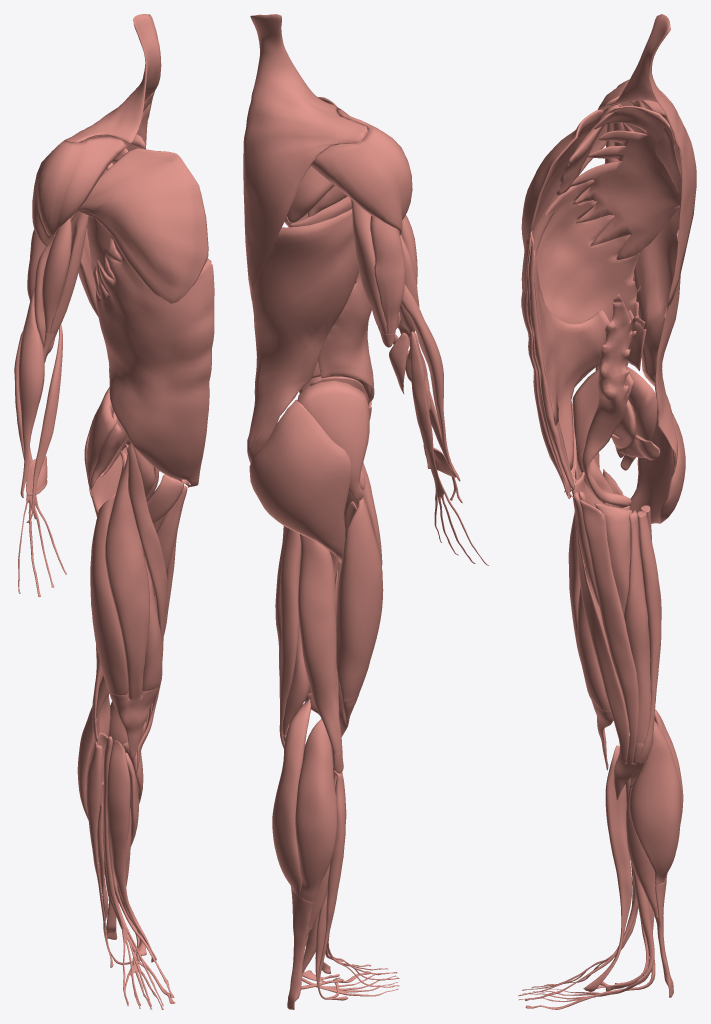
File: muscles.glb
The picture shows the model from 3 angles, left to right: view 1: azimuth 30°, elevation 25°; view 2: azimuth 150°, elevation 25°; view 3: azimuth 270°, elevation 25°; orthographic projection. The views are drawn at different scales.
Parts seen in each view (by area): view 1: External abdominal oblique muscle.r, Pectoralis major.r, Rectus femoris.r, Deltoid muscle.r, Vastus lateralis muscle.r, Trapezius muscle.r, Tibialis anterior muscle.r, Sartorius muscle.r, Brachioradialis muscle.r, Long head of biceps brachii.r, Fibularis longus muscle.r, Serratus anterior muscle.r (+24 smaller); view 2: Latissimus dorsi.r, Trapezius muscle.r, Gluteus maximus muscle.r, Vastus lateralis muscle.r, Deltoid muscle.r, Long head of biceps femoris.r, Lateral head of gastrocnemius.r, Gluteus medius muscle.r, Medial head of gastrocnemius.r, External abdominal oblique muscle.r, Semitendinosus muscle.r, Lateral head of triceps brachii.r (+14 smaller); view 3: External abdominal oblique muscle.r, Serratus anterior muscle.r, Internal abdominal oblique muscle.r, Latissimus dorsi.r, Medial head of gastrocnemius.r, Psoas major.r, Gracilis muscle.r, Trapezius muscle.r, Pectoralis major.r, Semimembranosus muscle.r, Gluteus maximus muscle.r, Sartorius muscle.r (+23 smaller).
Part boxes in pixels (<box>): External abdominal oblique muscle.r: <box>95,238,214,487</box>; Pectoralis major.r: <box>77,148,208,303</box>; Rectus femoris.r: <box>105,450,149,699</box>; Deltoid muscle.r: <box>32,135,129,246</box>; Vastus lateralis muscle.r: <box>90,494,128,695</box>; Trapezius muscle.r: <box>63,14,161,149</box>; Tibialis anterior muscle.r: <box>107,740,156,962</box>; Sartorius muscle.r: <box>125,442,167,722</box>; Brachioradialis muscle.r: <box>19,289,44,497</box>; Long head of biceps brachii.r: <box>42,218,71,333</box>; Fibularis longus muscle.r: <box>86,741,144,967</box>; Serratus anterior muscle.r: <box>87,134,145,298</box>; Latissimus dorsi.r: <box>246,208,359,463</box>; Trapezius muscle.r: <box>243,14,367,300</box>; Gluteus maximus muscle.r: <box>249,400,351,563</box>; Vastus lateralis muscle.r: <box>336,497,383,701</box>; Deltoid muscle.r: <box>311,107,412,235</box>; Long head of biceps femoris.r: <box>298,534,342,753</box>; Lateral head of gastrocnemius.r: <box>295,719,337,902</box>; Gluteus medius muscle.r: <box>297,380,369,501</box>; Medial head of gastrocnemius.r: <box>272,699,310,896</box>; External abdominal oblique muscle.r: <box>318,272,374,401</box>; Semitendinosus muscle.r: <box>279,528,300,749</box>; Lateral head of triceps brachii.r: <box>370,215,405,334</box>; External abdominal oblique muscle.r: <box>521,179,645,498</box>; Serratus anterior muscle.r: <box>570,105,681,259</box>; Internal abdominal oblique muscle.r: <box>527,243,646,493</box>; Latissimus dorsi.r: <box>630,208,680,477</box>; Medial head of gastrocnemius.r: <box>629,721,681,884</box>; Psoas major.r: <box>582,294,637,507</box>; Gracilis muscle.r: <box>579,499,638,762</box>; Trapezius muscle.r: <box>605,14,696,317</box>; Pectoralis major.r: <box>521,109,606,255</box>; Semimembranosus muscle.r: <box>624,510,656,743</box>; Gluteus maximus muscle.r: <box>629,410,685,523</box>; Sartorius muscle.r: <box>571,403,629,759</box>.
Bounding box in the file's own units: 0.3157 × 1.57 × 0.2528.
